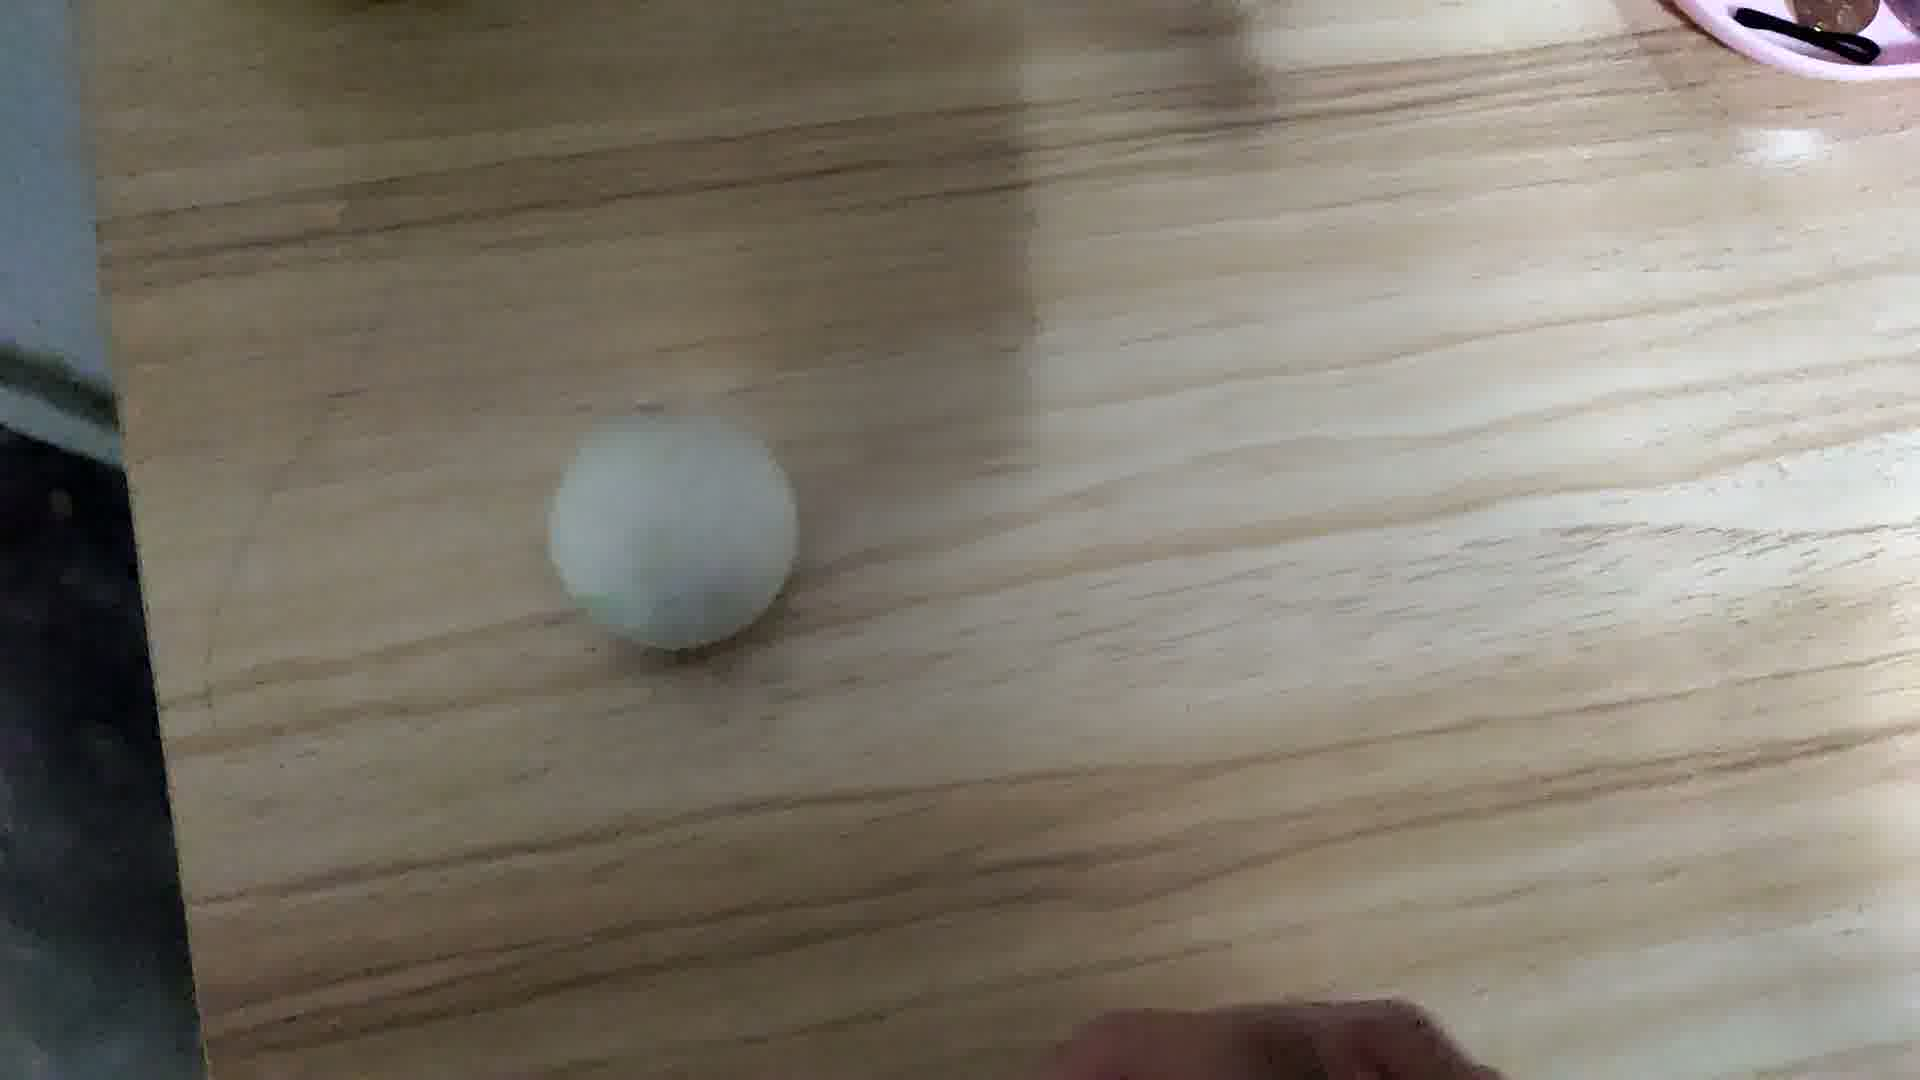Ball: (543, 411, 806, 650)
